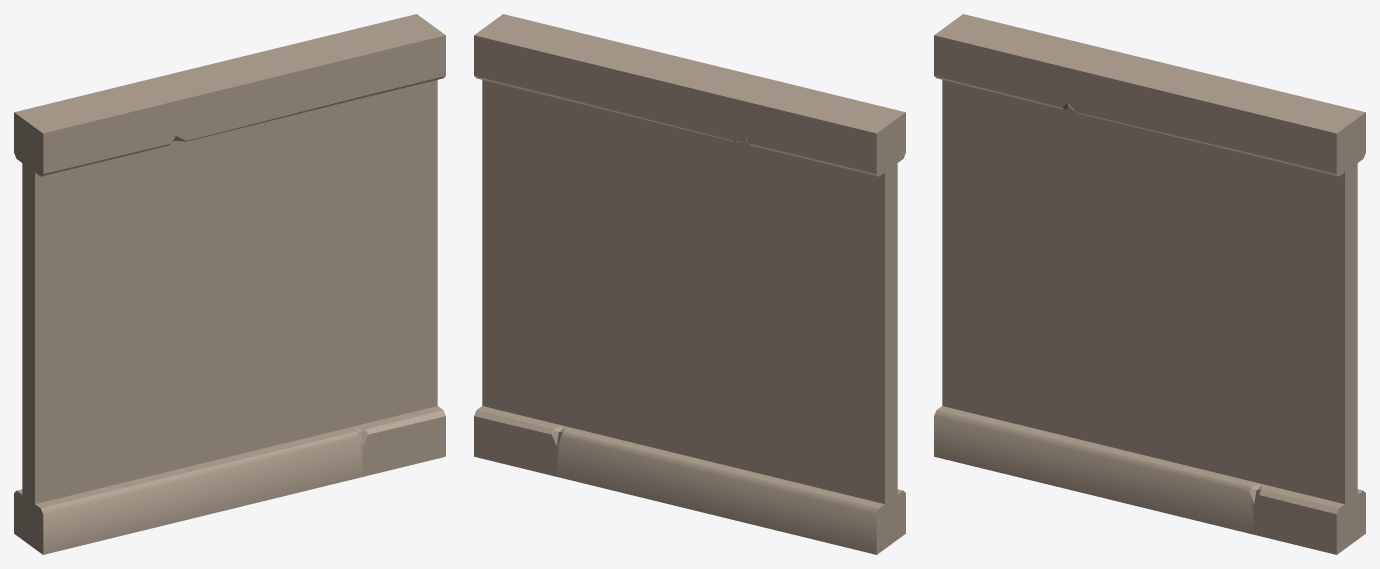
Rendered from Wall_Inside_Large.FBX.
3 views of the same model, side by side, from view 1: azimuth 30°, elevation 25°; view 2: azimuth 150°, elevation 25°; view 3: azimuth 330°, elevation 25° (orthographic).
Parts seen in each view (by area): view 1: Inside_Wall_large; view 2: Inside_Wall_large; view 3: Inside_Wall_large.
Part boxes in pixels (bbox=[...]): Inside_Wall_large: bbox=[14, 14, 445, 554]; Inside_Wall_large: bbox=[474, 14, 905, 554]; Inside_Wall_large: bbox=[934, 14, 1365, 554].
Size of the model in its own units: 400 by 400 by 50.
